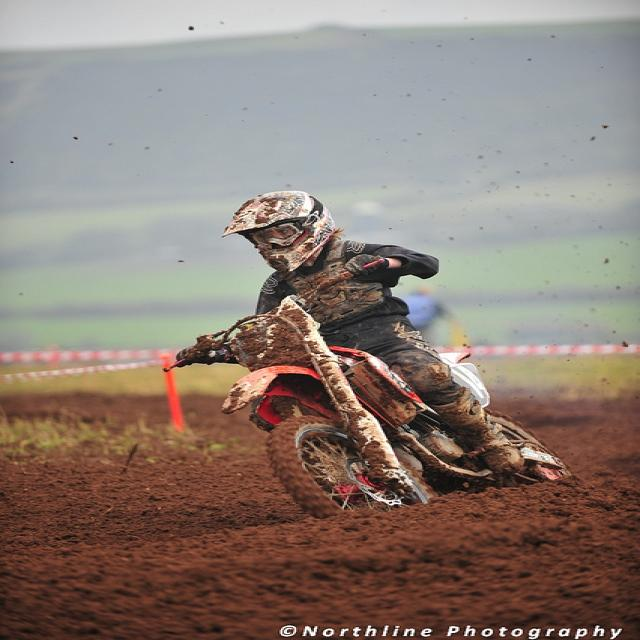motor: (174, 257, 579, 515)
